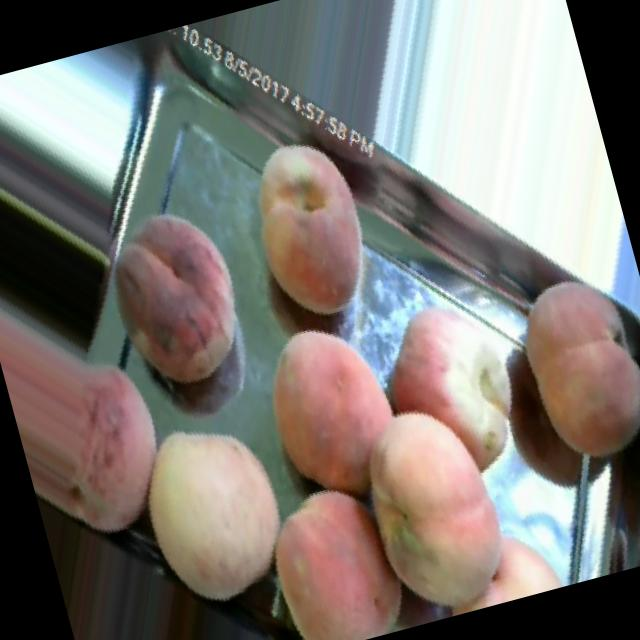Fruit: (0, 219, 219, 579), (87, 379, 333, 640), (318, 374, 548, 636), (64, 176, 284, 425), (213, 109, 412, 348), (230, 296, 428, 532), (477, 246, 640, 493), (225, 454, 416, 640)
